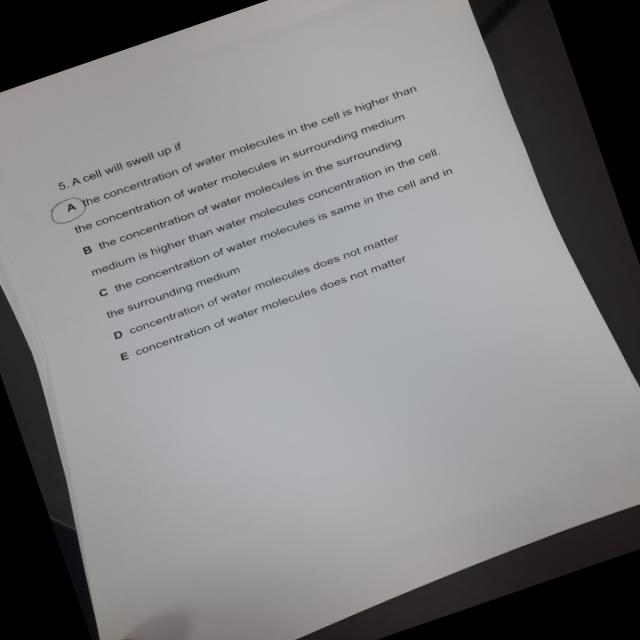A: (46, 191, 94, 230)
